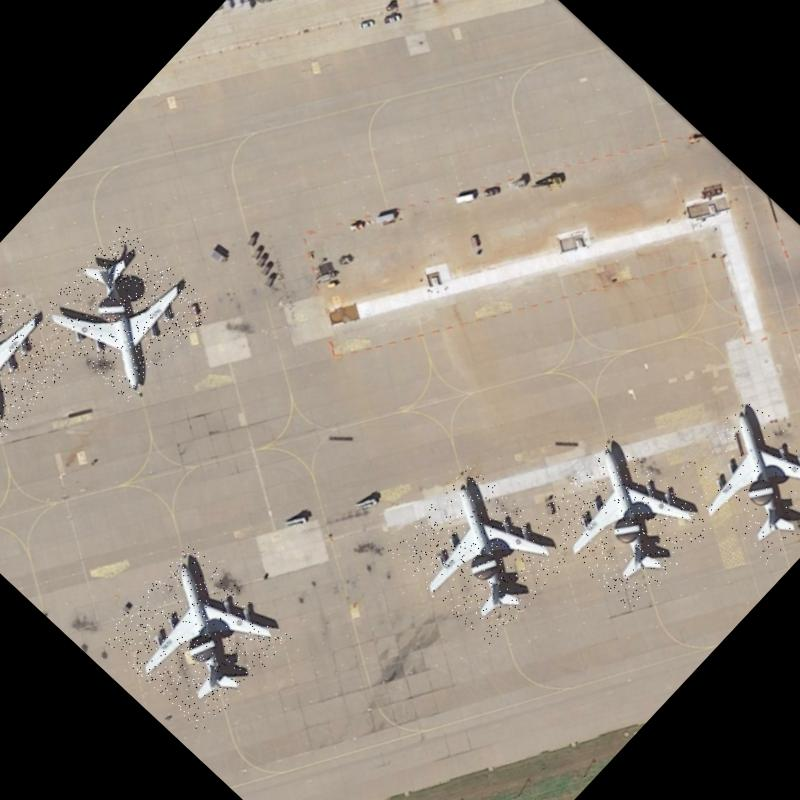A7: (100, 544, 292, 734), (386, 461, 574, 649), (34, 223, 216, 405), (532, 435, 712, 615), (671, 396, 800, 567), (0, 262, 83, 445)
